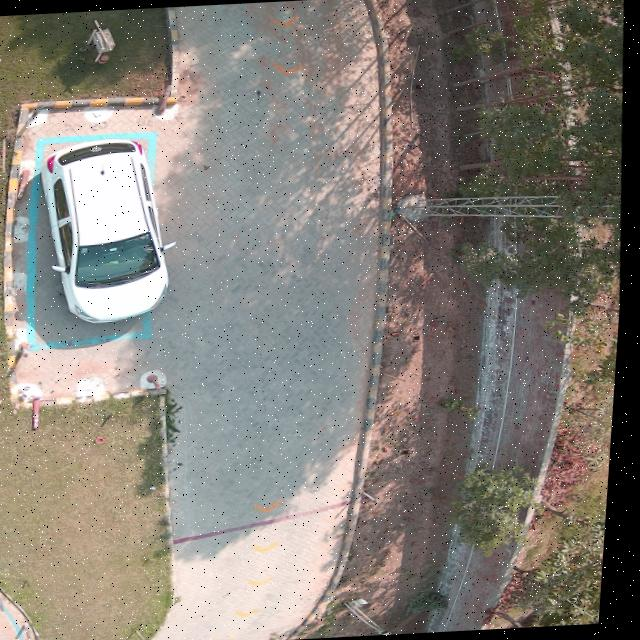car: (38, 137, 170, 325)
